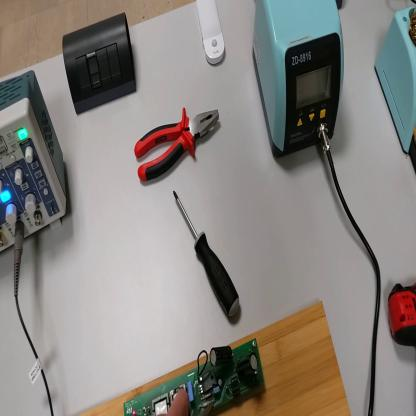electric screwdriver: (384, 283, 416, 348)
hand: (160, 388, 194, 414)
high voltage board: (125, 330, 266, 415)
oscilloscope: (2, 63, 71, 254)
oscilloscope probe tip: (196, 401, 217, 416)
pliers: (134, 103, 223, 186)
screwdriver-: (174, 192, 240, 322)
welder base: (374, 3, 415, 179)
welder station: (250, 1, 347, 165)
working area: (76, 301, 352, 415)
